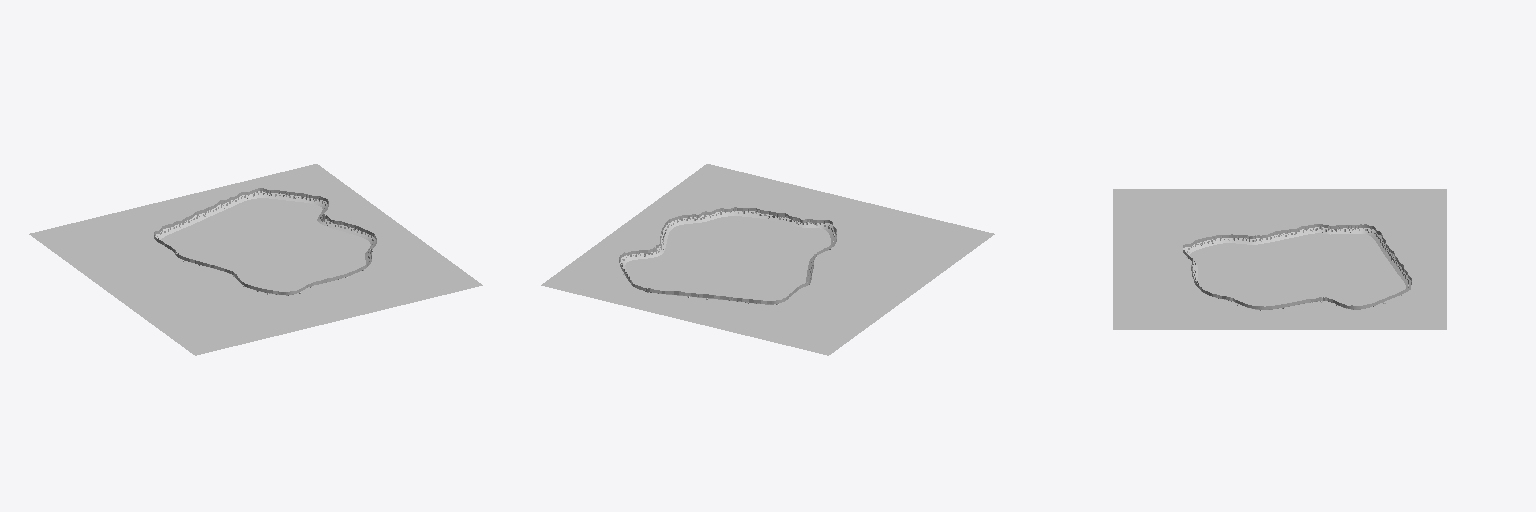
3 views of the same model, side by side, from view 1: azimuth 30°, elevation 25°; view 2: azimuth 150°, elevation 25°; view 3: azimuth 270°, elevation 25° (orthographic).
Parts seen in each view (by area): view 1: Plane; view 2: Plane; view 3: Plane.
Boxes of the visible parts, x1,y1,x2,y2 form: Plane: [29, 164, 482, 355]; Plane: [541, 164, 994, 355]; Plane: [1113, 189, 1446, 329].
Size of the model in its own units: 1400 by 34.65 by 1400.